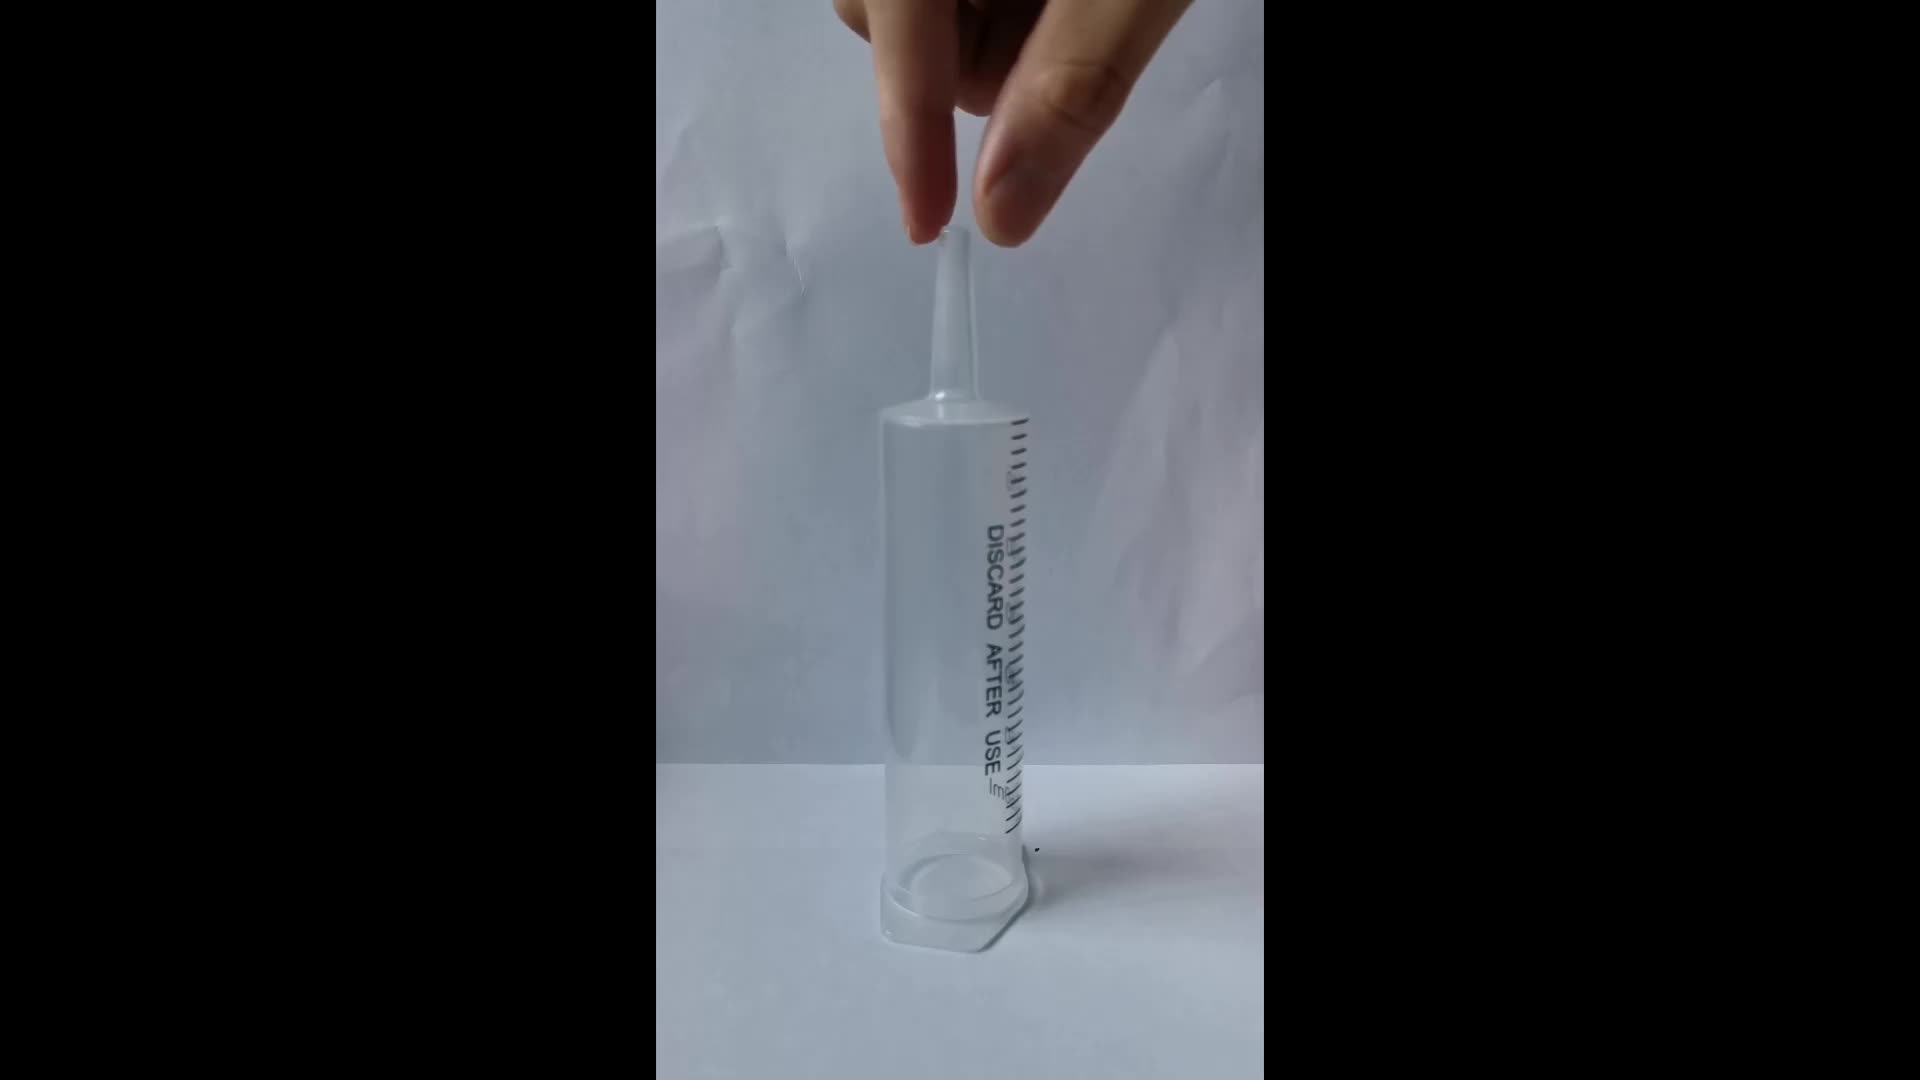syringe: (822, 228, 1077, 961)
